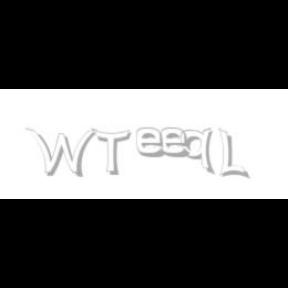L: (219, 128, 247, 180)
T: (91, 128, 131, 176)
W: (25, 128, 97, 178)
e: (136, 128, 170, 158), (161, 128, 194, 158)
q: (180, 128, 216, 176)
